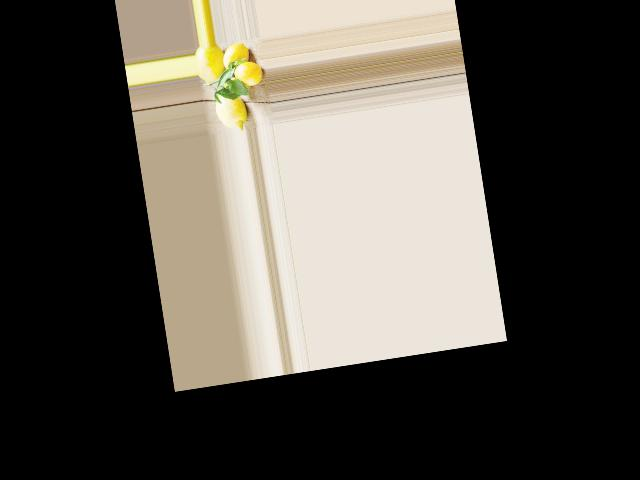lemon: (211, 82, 253, 133)
